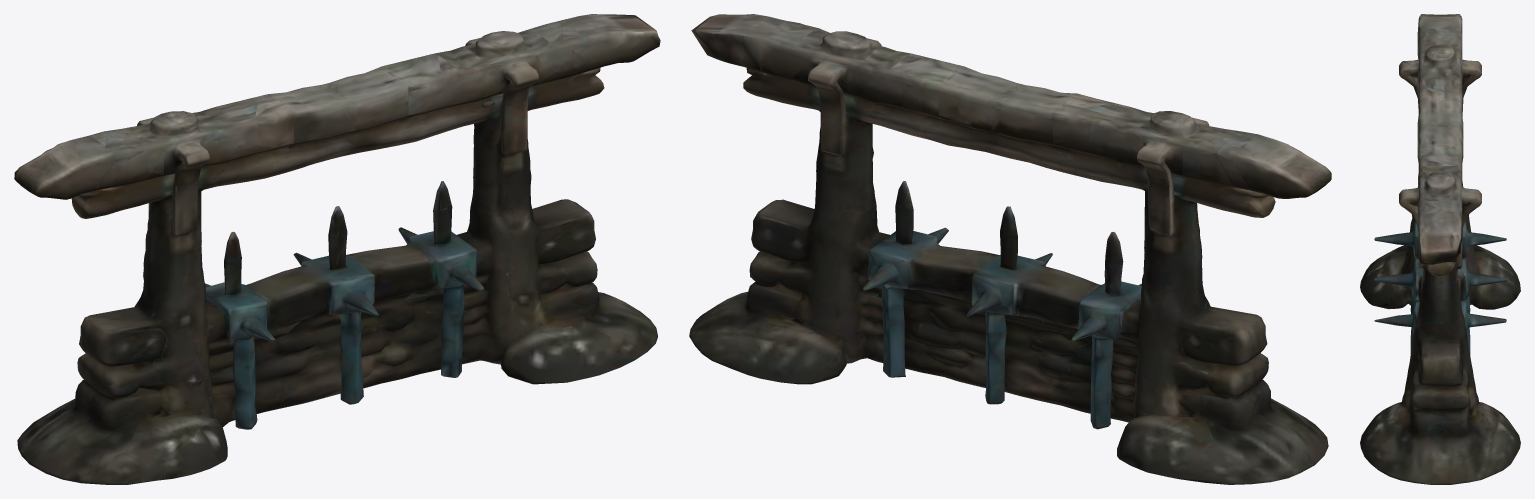
The model's file is briarhold-barricade-256.glb.
3 views of the same model, side by side, from view 1: azimuth 30°, elevation 25°; view 2: azimuth 150°, elevation 25°; view 3: azimuth 270°, elevation 25° (orthographic). The views are drawn at different scales.
Visible parts, largest first — view 1: briarhold-barricade; view 2: briarhold-barricade; view 3: briarhold-barricade.
Boxes of the visible parts, box(x1,y1,x2,y2) form: briarhold-barricade: box(14, 14, 660, 484); briarhold-barricade: box(689, 14, 1331, 484); briarhold-barricade: box(1360, 14, 1520, 484).
Size of the model in its own units: 5.4 by 2.6 by 1.5.
1 material, 1 textured.
